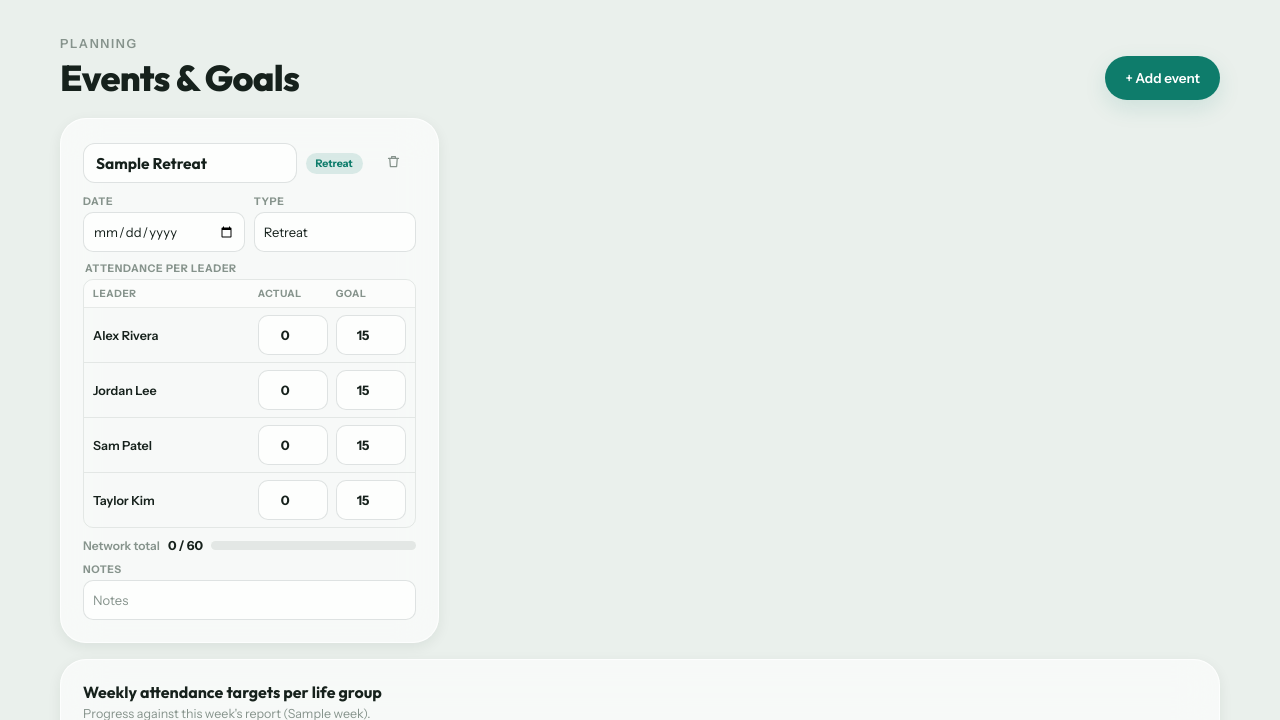
EventsPage › editing a leader's event attendance updates the stored breakdown and network total
Check: the field showing "Sample Retreat" is shown, box [83, 143, 297, 183]
Type "30" into the 1st number field named "Actual attendance for Alex Rivera at Sample Retreat" at (293,335), box [258, 315, 328, 355]
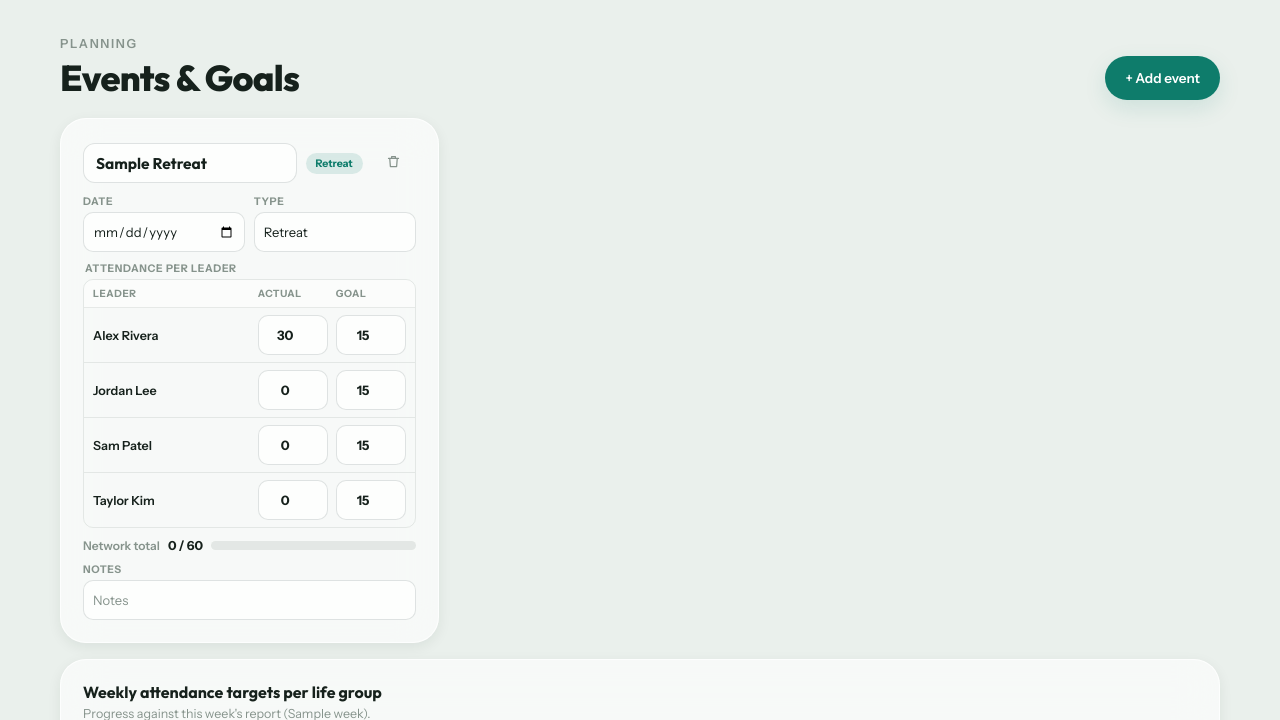
Replace the text in the 2nd number field named "Attendance goal for Alex Rivera at Sample Retreat" with "20" at (371,335), box [336, 315, 406, 355]
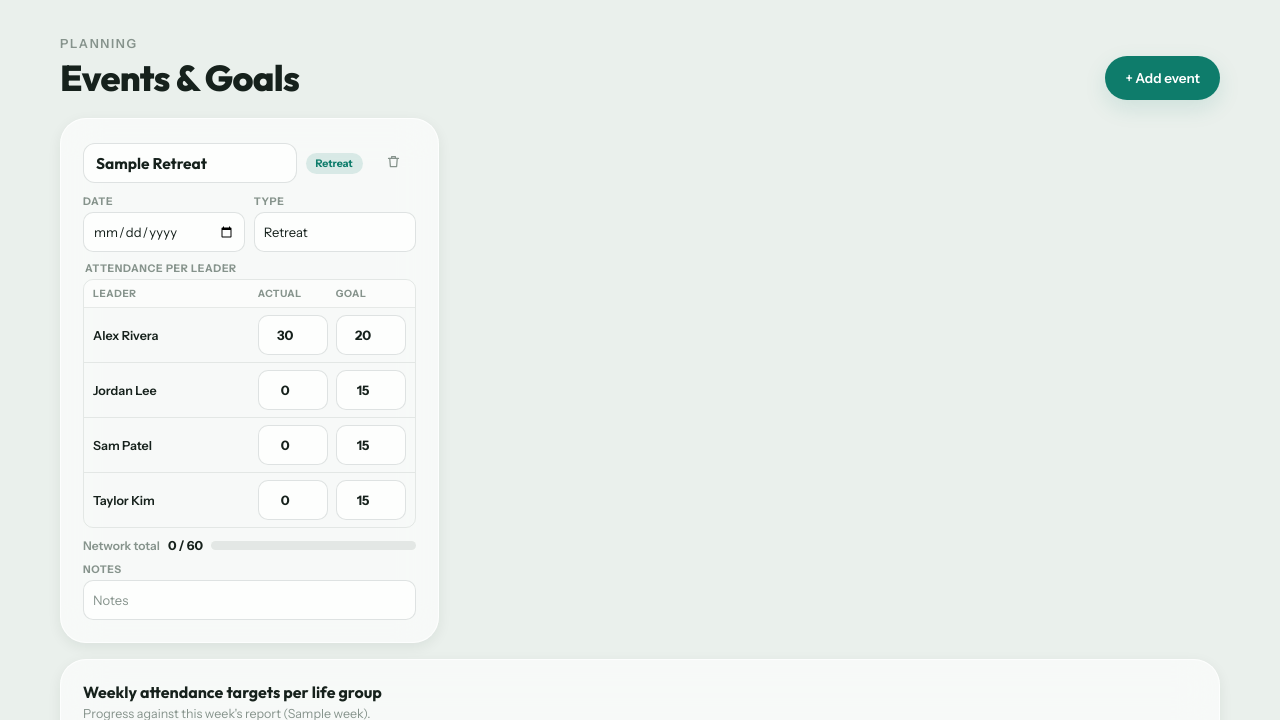
Leave the 2nd number field named "Attendance goal for Alex Rivera at Sample Retreat", box [336, 315, 406, 355]
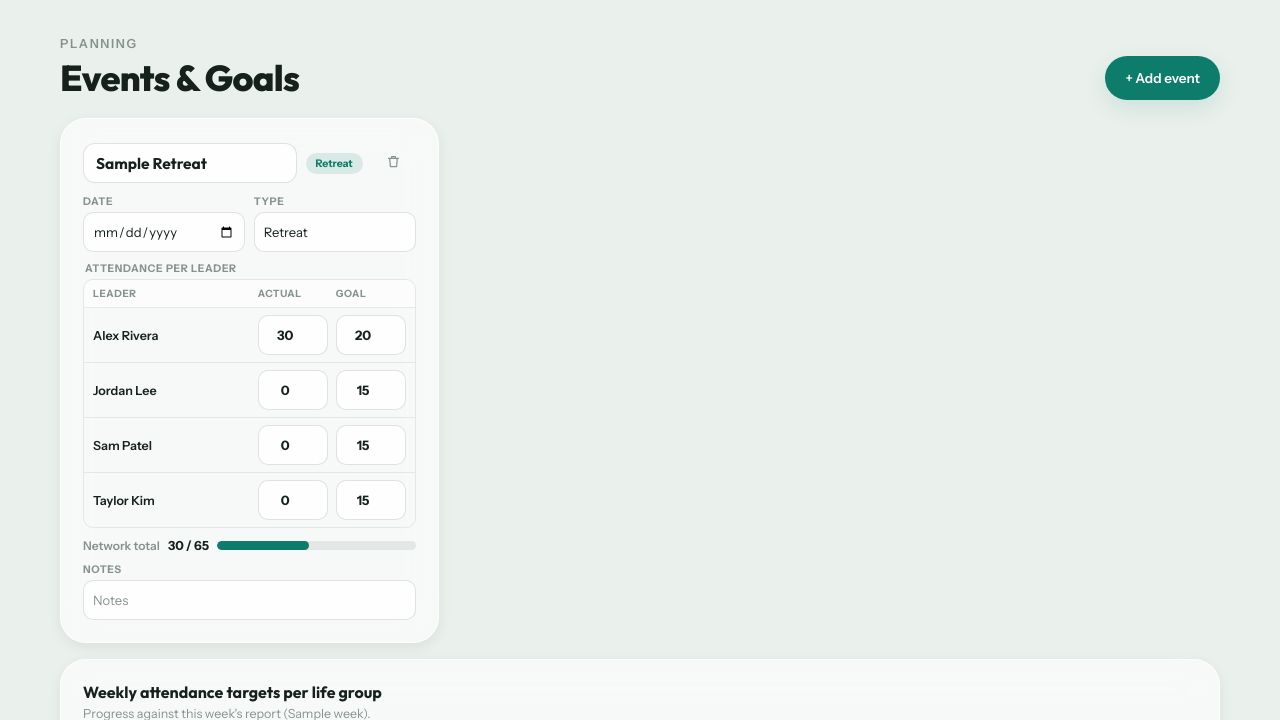
Check: the picture named "network total: 30 of 65" is shown, box [217, 541, 416, 550]
